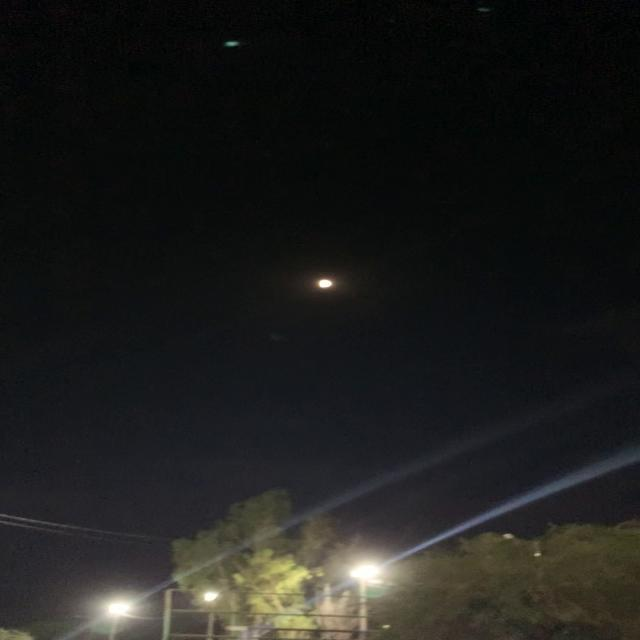moon: (312, 270, 346, 293)
